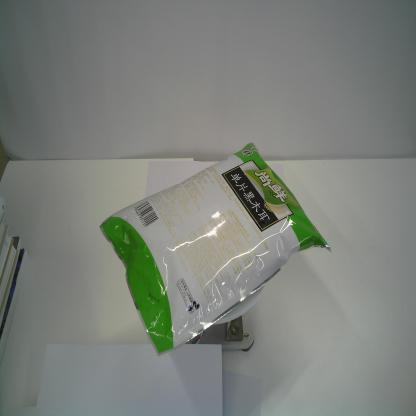Dried Food: (98, 142, 334, 360)
